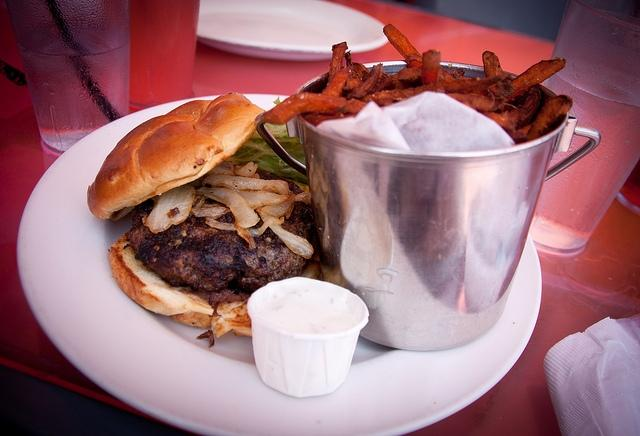lettuce: (225, 96, 308, 186)
